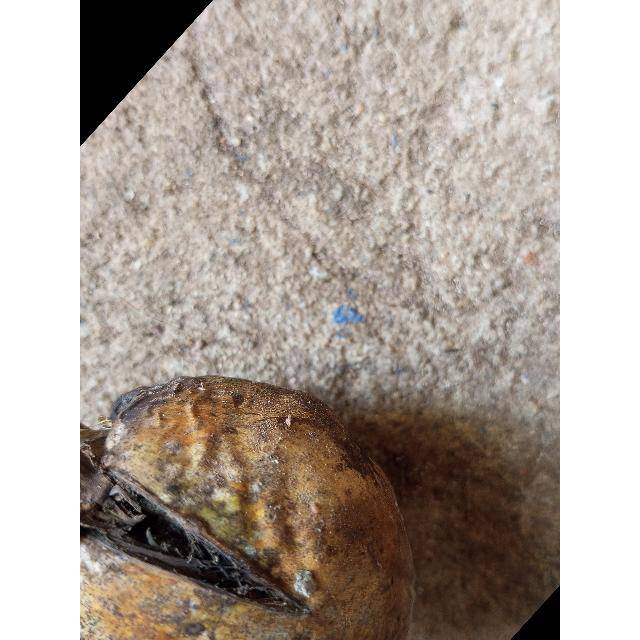damaged: (80, 376, 417, 640)
